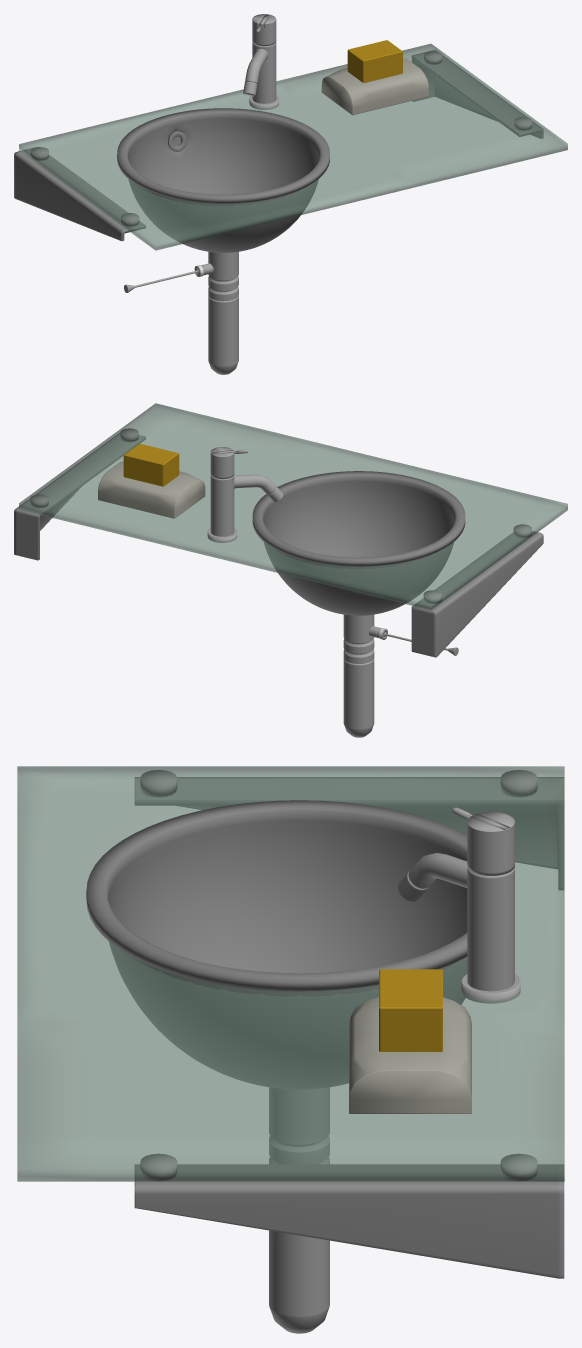
The model's file is bathroom3.obj.
The picture shows the model from 3 angles, top to bottom: view 1: azimuth 30°, elevation 25°; view 2: azimuth 150°, elevation 25°; view 3: azimuth 270°, elevation 25°; orthographic projection. The views are drawn at different scales.
Parts seen in each view (by area): view 1: cristal_bajo.002_Circle.001, pica_agujereada_Sphere.001, soporte_r_Plane.001, tuberia_desague_Cylinder, soporte_l_Plane.002, jabonera_madera_Cube.003, grifo_mono_Circle.003, jabon_Cube.004; view 2: cristal_bajo.002_Circle.001, pica_agujereada_Sphere.001, soporte_r_Plane.001, tuberia_desague_Cylinder, soporte_l_Plane.002, jabonera_madera_Cube.003, grifo_mono_Circle.003, jabon_Cube.004; view 3: cristal_bajo.002_Circle.001, pica_agujereada_Sphere.001, soporte_l_Plane.002, soporte_r_Plane.001, grifo_mono_Circle.003, jabonera_madera_Cube.003, tuberia_desague_Cylinder, jabon_Cube.004, soporte_redondo.001_Cylinder.005, soporte_redondo_Cylinder.004, soporte_redondo.003_Cylinder.007, soporte_redondo.002_Cylinder.006.
Boxes of the visible parts, <box> form: cristal_bajo.002_Circle.001: <box>19,43,567,250</box>; pica_agujereada_Sphere.001: <box>117,108,329,252</box>; soporte_r_Plane.001: <box>14,147,145,241</box>; tuberia_desague_Cylinder: <box>124,251,238,374</box>; soporte_l_Plane.002: <box>412,50,543,138</box>; jabonera_madera_Cube.003: <box>321,58,428,115</box>; grifo_mono_Circle.003: <box>243,14,278,109</box>; jabon_Cube.004: <box>347,40,402,82</box>; cristal_bajo.002_Circle.001: <box>19,403,567,609</box>; pica_agujereada_Sphere.001: <box>252,471,465,615</box>; soporte_r_Plane.001: <box>411,531,543,657</box>; tuberia_desague_Cylinder: <box>343,614,458,737</box>; soporte_l_Plane.002: <box>14,433,145,560</box>; jabonera_madera_Cube.003: <box>98,461,205,518</box>; grifo_mono_Circle.003: <box>207,447,283,542</box>; jabon_Cube.004: <box>123,443,179,486</box>; cristal_bajo.002_Circle.001: <box>17,766,564,1181</box>; pica_agujereada_Sphere.001: <box>86,800,467,1089</box>; soporte_l_Plane.002: <box>134,1164,564,1278</box>; soporte_r_Plane.001: <box>135,777,563,889</box>; grifo_mono_Circle.003: <box>398,807,520,1003</box>; jabonera_madera_Cube.003: <box>349,997,471,1113</box>; tuberia_desague_Cylinder: <box>269,1087,329,1333</box>; jabon_Cube.004: <box>379,969,442,1051</box>; soporte_redondo.001_Cylinder.005: <box>140,770,177,797</box>; soporte_redondo_Cylinder.004: <box>500,770,537,797</box>; soporte_redondo.003_Cylinder.007: <box>500,1153,537,1181</box>; soporte_redondo.002_Cylinder.006: <box>140,1153,177,1181</box>.
Bounding box in the file's own units: 71.98 × 48.44 × 40.38.
